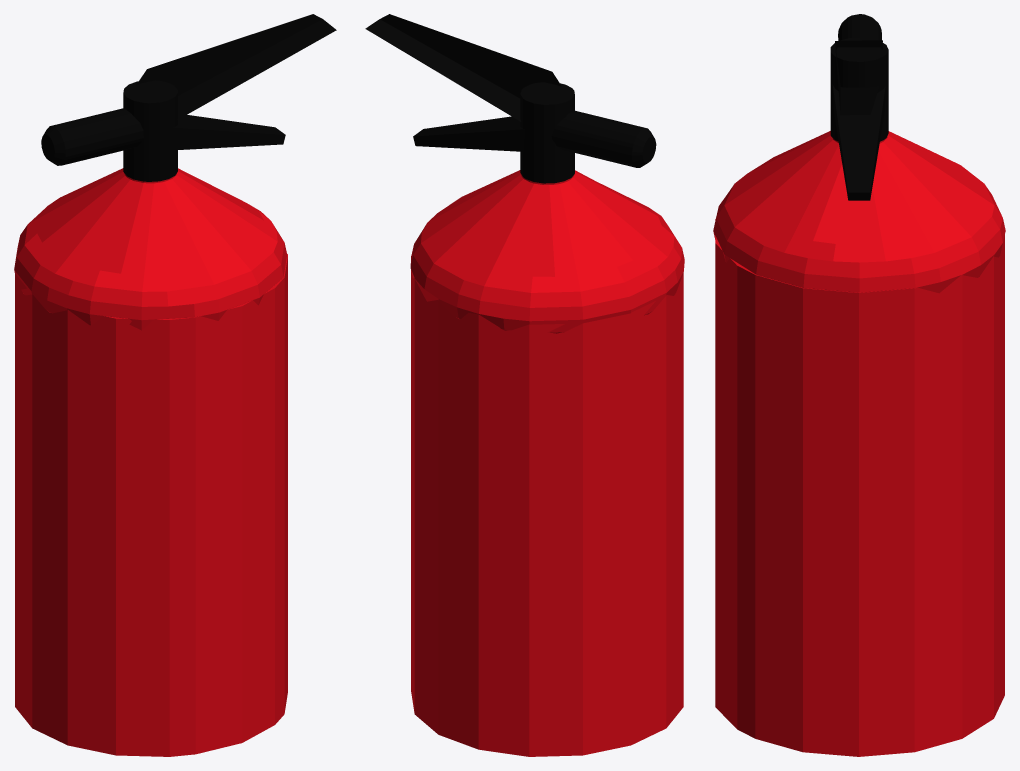
The model's file is Feuerlöscher.fbx.
3 renders of one model, left to right at view 1: azimuth 30°, elevation 25°; view 2: azimuth 150°, elevation 25°; view 3: azimuth 270°, elevation 25°, orthographic. The views are drawn at different scales.
Visible parts, largest first — view 1: Feuerköscher_LOD0; view 2: Feuerköscher_LOD0; view 3: Feuerköscher_LOD0.
Part boxes in pixels (x1=…): Feuerköscher_LOD0: x1=14, y1=14, x2=336, y2=756; Feuerköscher_LOD0: x1=365, y1=14, x2=684, y2=756; Feuerköscher_LOD0: x1=713, y1=14, x2=1005, y2=756.
Size of what is drawn, in the model's own units: 0.2489 by 0.513 by 0.2.
